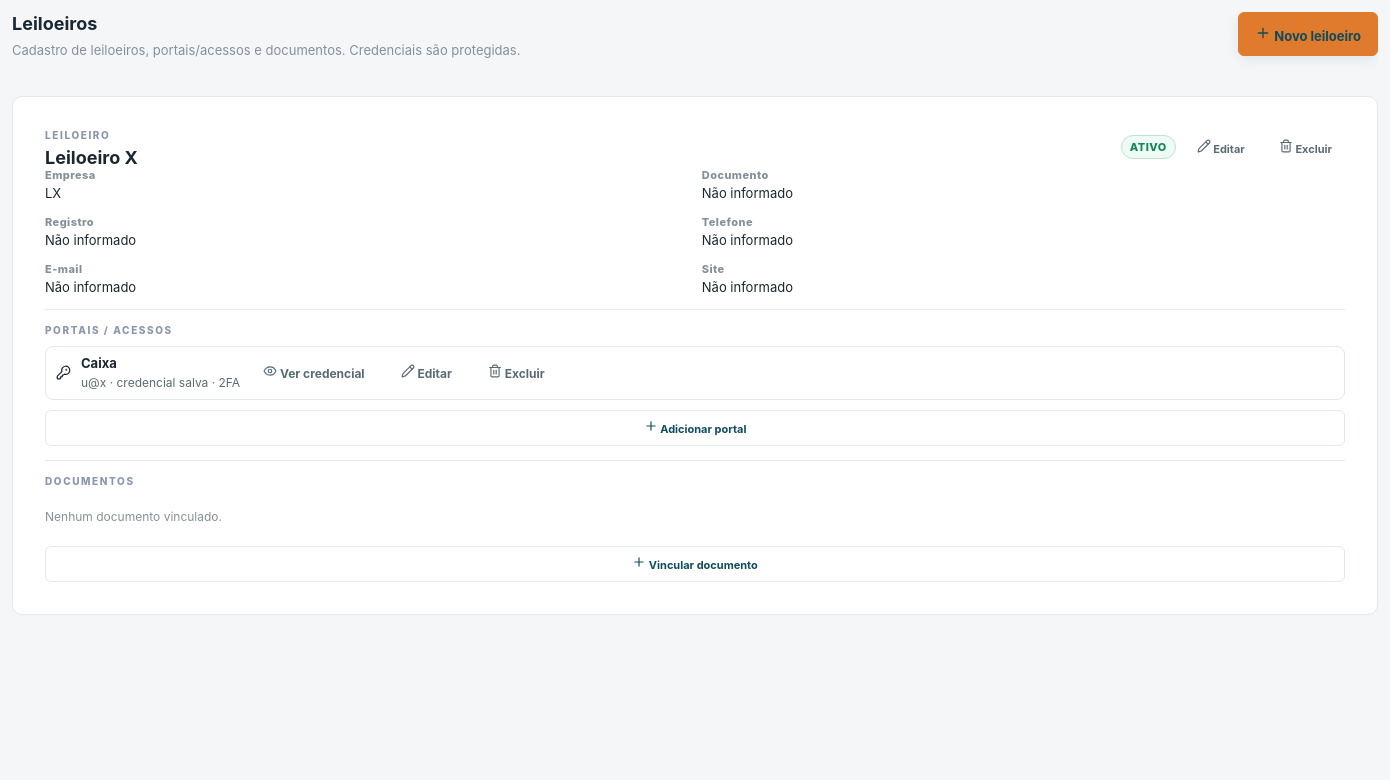
Test: AuctioneersPage › revela a credencial apenas via ação explícita, exigindo token de administração
Expected: the heading "Leiloeiro X" is shown, [45,147,138,168]
Click the button "Ver credencial" at [314, 373], box [250,355,378,391]
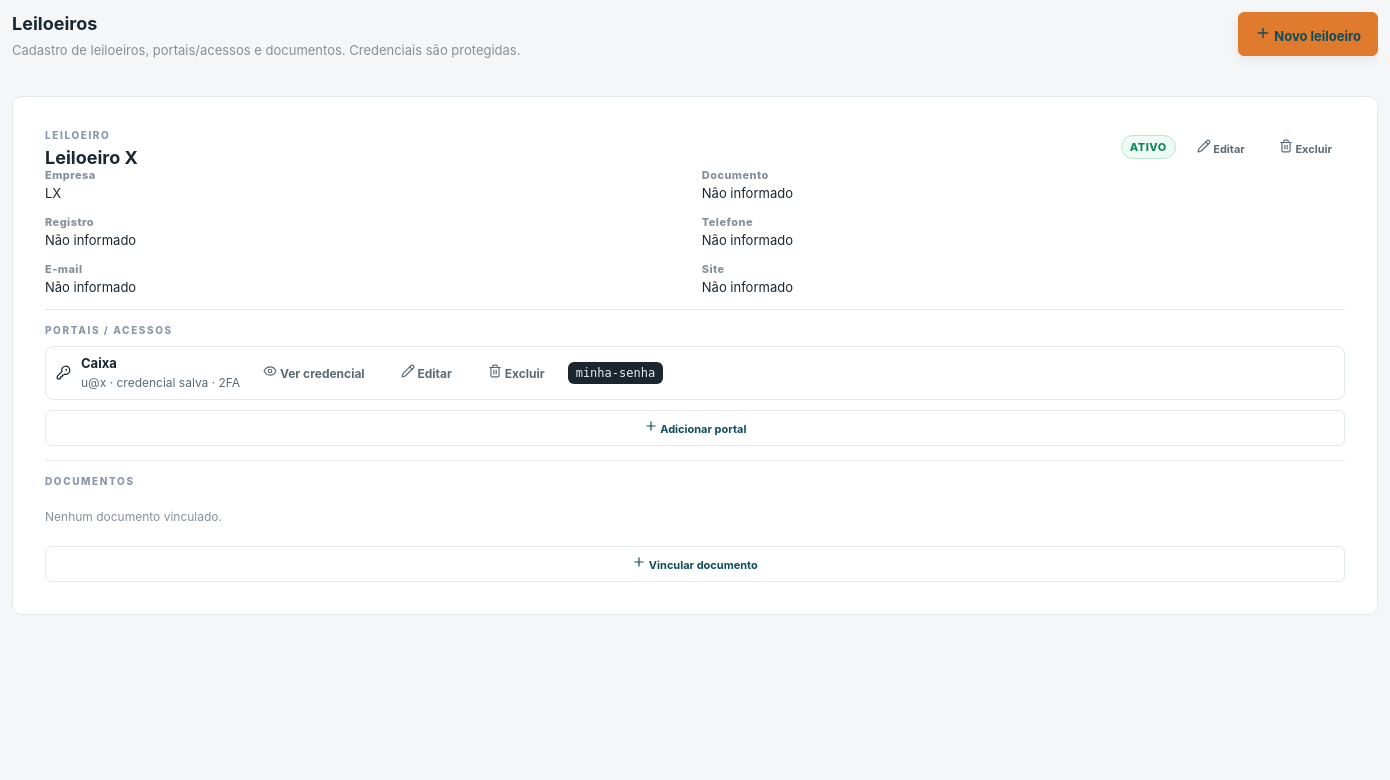
Now the text "minha-senha" is shown, box [568,362,663,384]
